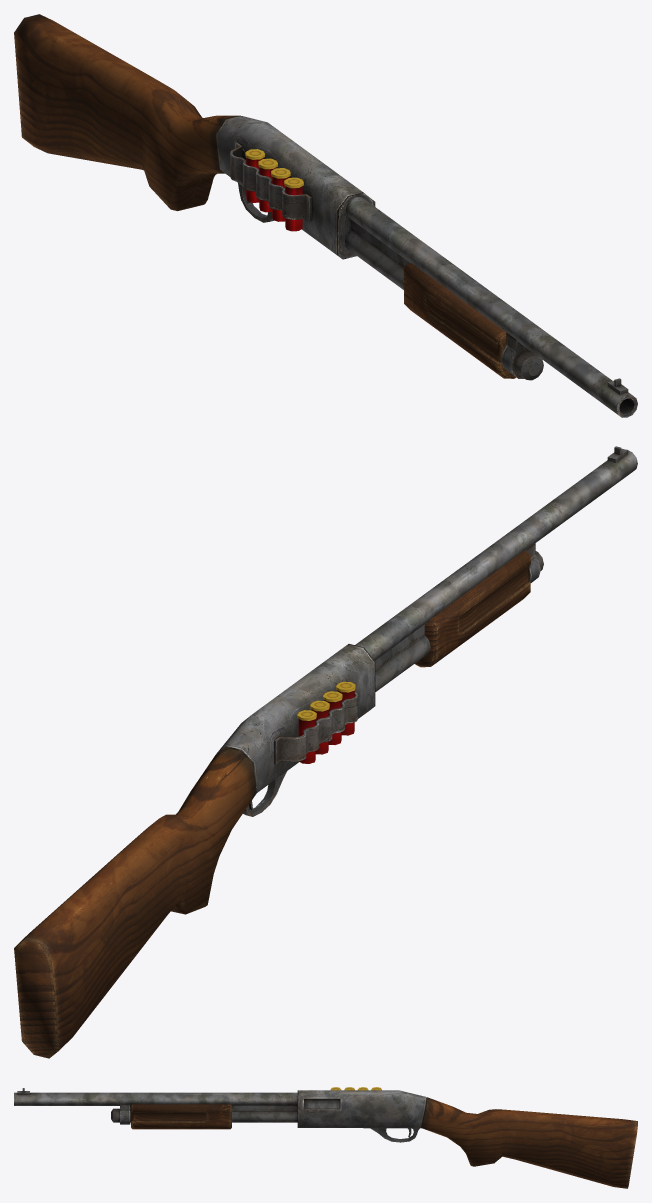
File: remmington.FBX
The picture shows the model from 3 angles, top to bottom: view 1: azimuth 30°, elevation 25°; view 2: azimuth 150°, elevation 25°; view 3: azimuth 270°, elevation 25°; orthographic projection. The views are drawn at different scales.
Parts seen in each view (by area): view 1: Box001, Cylinder003; view 2: Box001, Cylinder003; view 3: Box001, Cylinder003.
Part boxes in pixels (x1=…): Box001: x1=14, y1=14, x2=637, y2=417; Cylinder003: x1=403, y1=262, x2=516, y2=378; Box001: x1=14, y1=446, x2=637, y2=1058; Cylinder003: x1=415, y1=551, x2=530, y2=667; Box001: x1=14, y1=1087, x2=637, y2=1188; Cylinder003: x1=131, y1=1104, x2=231, y2=1129.
Size of the model in its own units: 21.51 by 69.23 by 399.
Materials: 1 (1 with a texture image).
